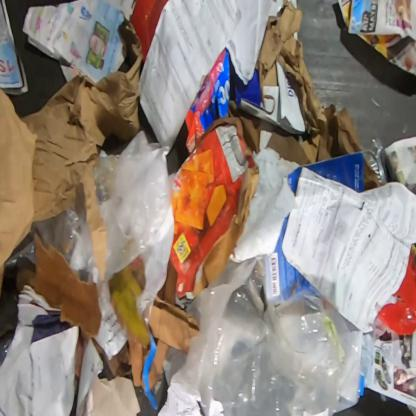cardboard: (0, 52, 142, 298), (169, 116, 259, 309), (4, 233, 100, 341), (194, 166, 260, 298), (149, 296, 198, 392), (376, 242, 415, 336), (129, 0, 170, 64), (266, 125, 314, 165), (94, 339, 132, 377), (157, 256, 178, 306), (128, 330, 144, 388), (364, 156, 382, 191)
rigid_plastic: (362, 138, 388, 185)
soft_plastic: (172, 253, 368, 416), (37, 131, 174, 361), (4, 221, 42, 269)
